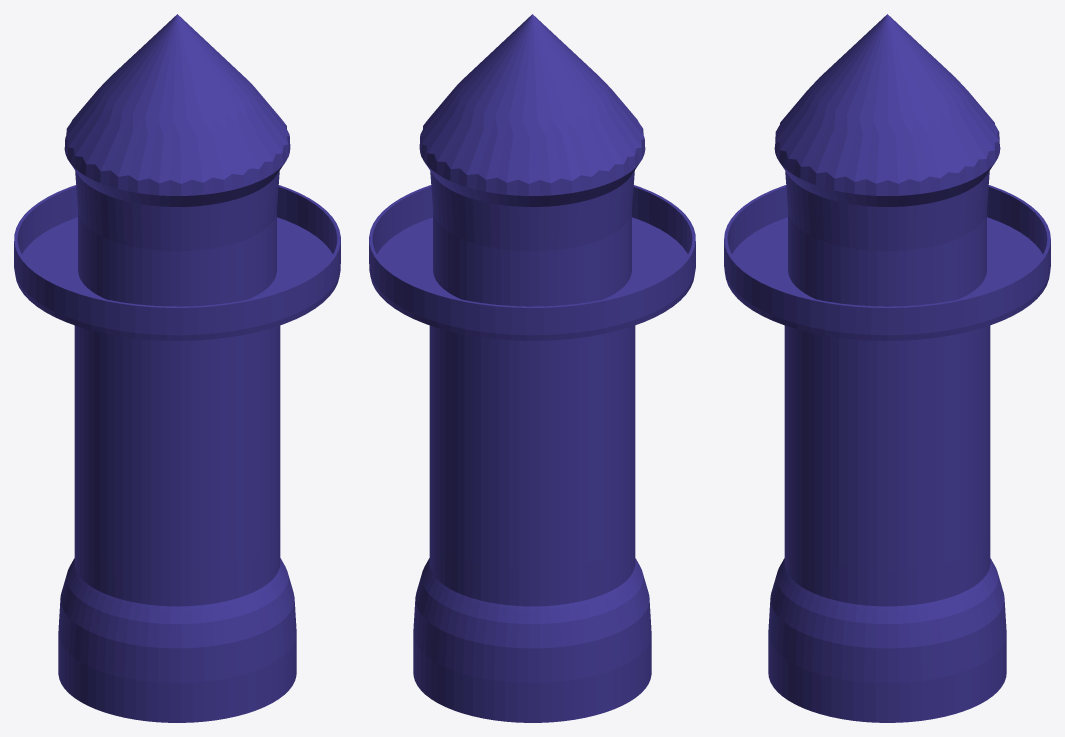
File: tower.obj
The picture shows the model from 3 angles, left to right: view 1: azimuth 30°, elevation 25°; view 2: azimuth 150°, elevation 25°; view 3: azimuth 270°, elevation 25°; orthographic projection.
Parts seen in each view (by area): view 1: Tower_Circle; view 2: Tower_Circle; view 3: Tower_Circle.
Boxes of the visible parts, bbox=[...] form: Tower_Circle: bbox=[14, 14, 340, 722]; Tower_Circle: bbox=[369, 14, 695, 722]; Tower_Circle: bbox=[724, 14, 1050, 722].
Bounding box in the file's own units: 2.81 × 6.25 × 2.81.
